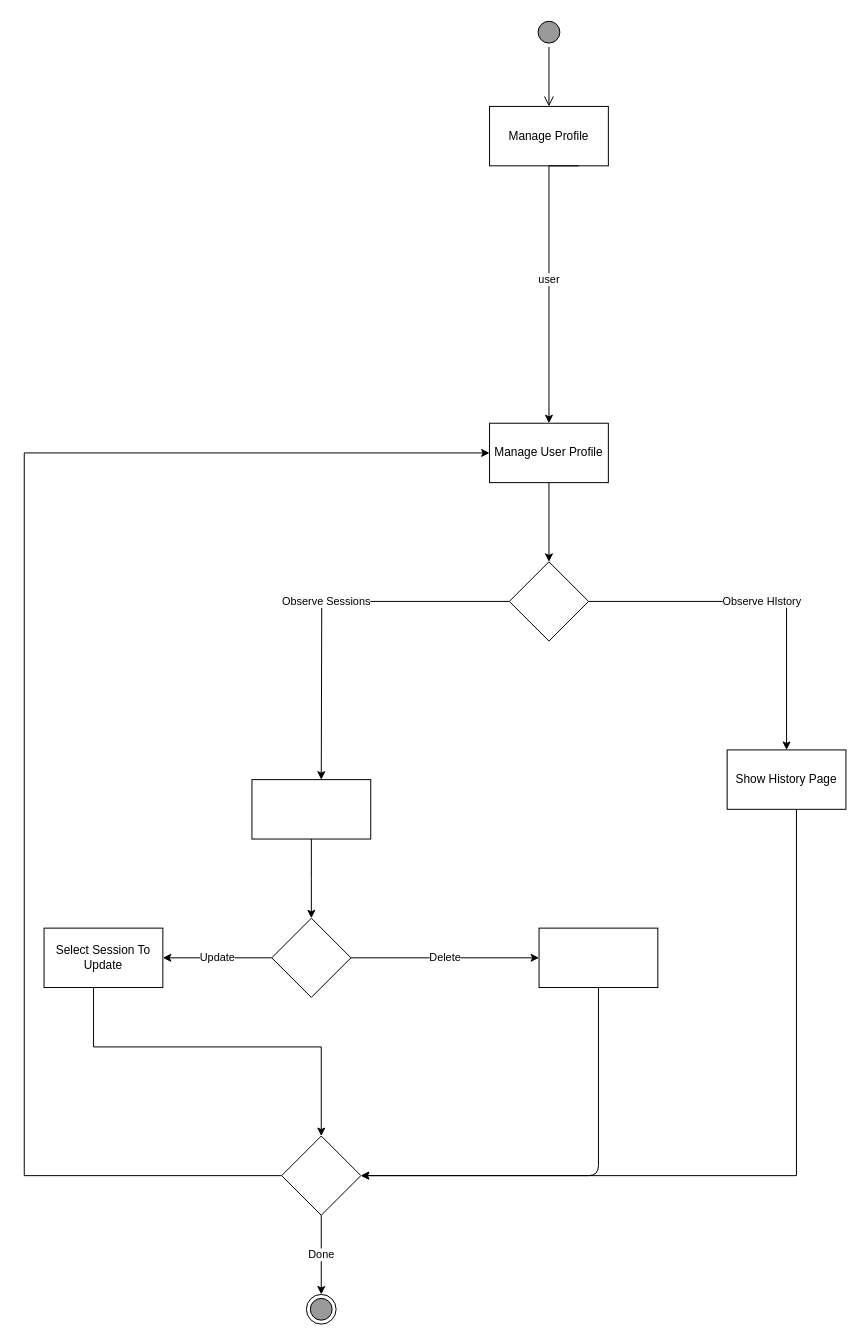
Some shapes in this 863 by 1341 pixel diagram are drawn without their labels. Each missing label, with the centre of its shape:
"Select Session To Remove" belongs at (x=598, y=957).
"Show Sessions" belongs at (x=311, y=809).
